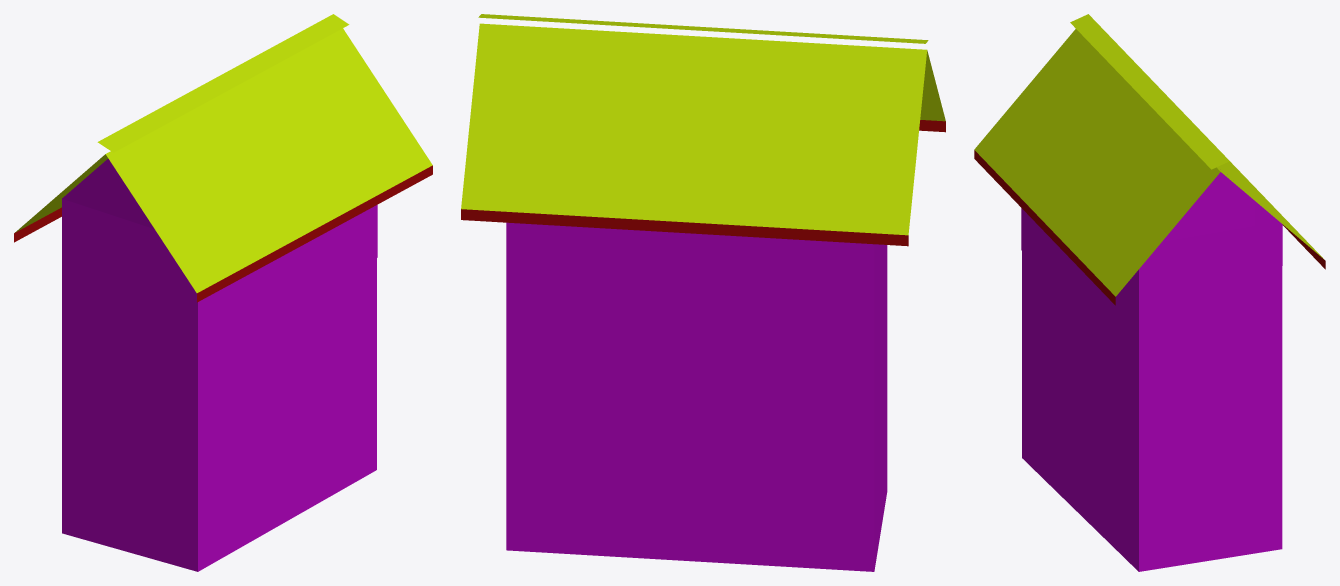
File: svc_71.glb
3 renders of one model, left to right at view 1: azimuth 30°, elevation 25°; view 2: azimuth 150°, elevation 25°; view 3: azimuth 270°, elevation 25°, orthographic. The views are drawn at different scales.
Parts seen in each view (by area): view 1: svc_71; view 2: svc_71; view 3: svc_71.
Part boxes in pixels (x1,y1,x2,y2): svc_71: [14, 14, 432, 571]; svc_71: [461, 14, 945, 571]; svc_71: [974, 14, 1325, 571].
Bounding box in the file's own units: 5.2 × 5.46 × 4.22.
